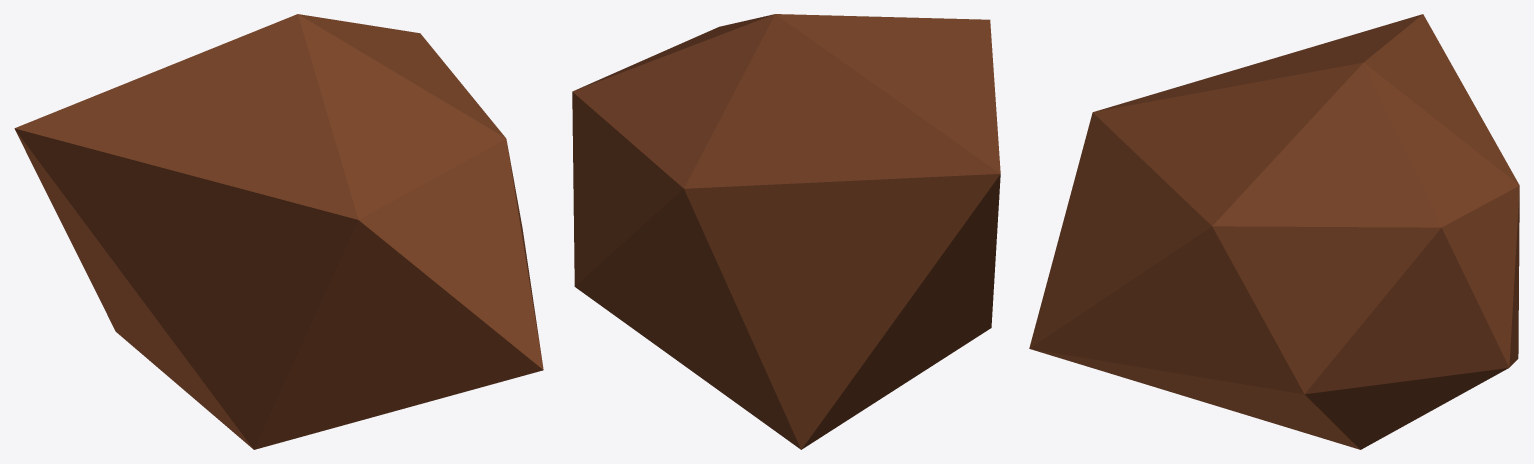
File: rawMetal.fbx
3 renders of one model, left to right at view 1: azimuth 30°, elevation 25°; view 2: azimuth 150°, elevation 25°; view 3: azimuth 270°, elevation 25°, orthographic.
Parts seen in each view (by area): view 1: Raw Metal; view 2: Raw Metal; view 3: Raw Metal.
Boxes of the visible parts, box(x1,y1,x2,y2) form: Raw Metal: box(14, 14, 543, 449); Raw Metal: box(572, 14, 1000, 449); Raw Metal: box(1029, 14, 1519, 449).
Bounding box in the file's own units: 24.51 × 23.45 × 18.26.
